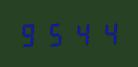five: (43, 20, 67, 47)
four: (93, 19, 117, 46), (68, 20, 92, 46)
nine: (18, 20, 42, 47)
